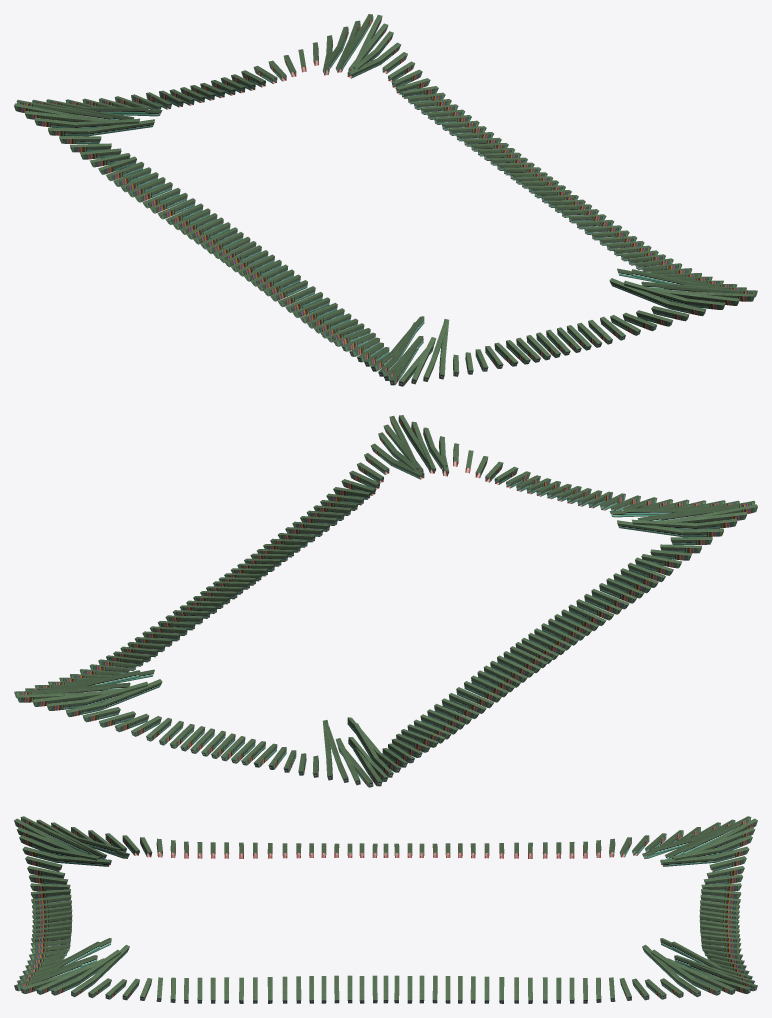
File: SM_Buyeon04E.fbx
3 renders of one model, top to bottom at view 1: azimuth 30°, elevation 25°; view 2: azimuth 150°, elevation 25°; view 3: azimuth 270°, elevation 25°, orthographic. The views are drawn at different scales.
Parts seen in each view (by area): view 1: SM_Buyeon04E; view 2: SM_Buyeon04E; view 3: SM_Buyeon04E.
Boxes of the visible parts, x1,y1,x2,y2 form: SM_Buyeon04E: [14, 14, 757, 386]; SM_Buyeon04E: [14, 415, 757, 787]; SM_Buyeon04E: [14, 816, 757, 1003].
Size of the model in its own units: 917 by 1662 by 67.35.
